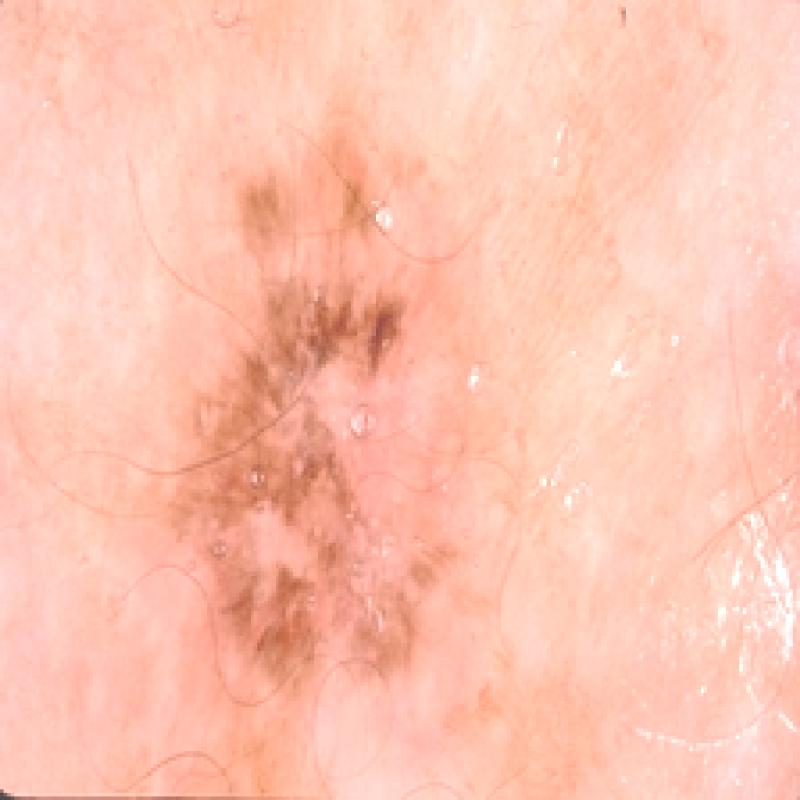malignant: (132, 121, 498, 709)
